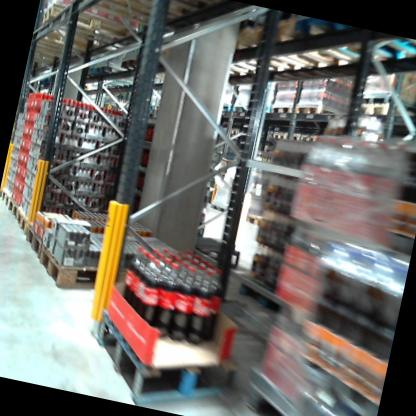pallet: (71, 298, 255, 416), (225, 7, 379, 92), (288, 18, 416, 81), (61, 0, 208, 54), (34, 239, 146, 305), (29, 22, 127, 75), (38, 0, 135, 53), (352, 95, 416, 132), (291, 100, 340, 126), (22, 223, 49, 260), (11, 205, 37, 238), (267, 97, 294, 120), (4, 197, 24, 222), (0, 185, 16, 210), (299, 132, 325, 147), (282, 128, 301, 143), (270, 128, 284, 140)
